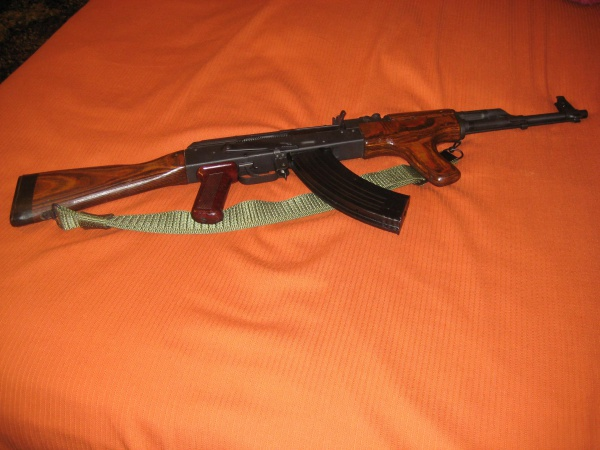ak47: (15, 96, 591, 271)
